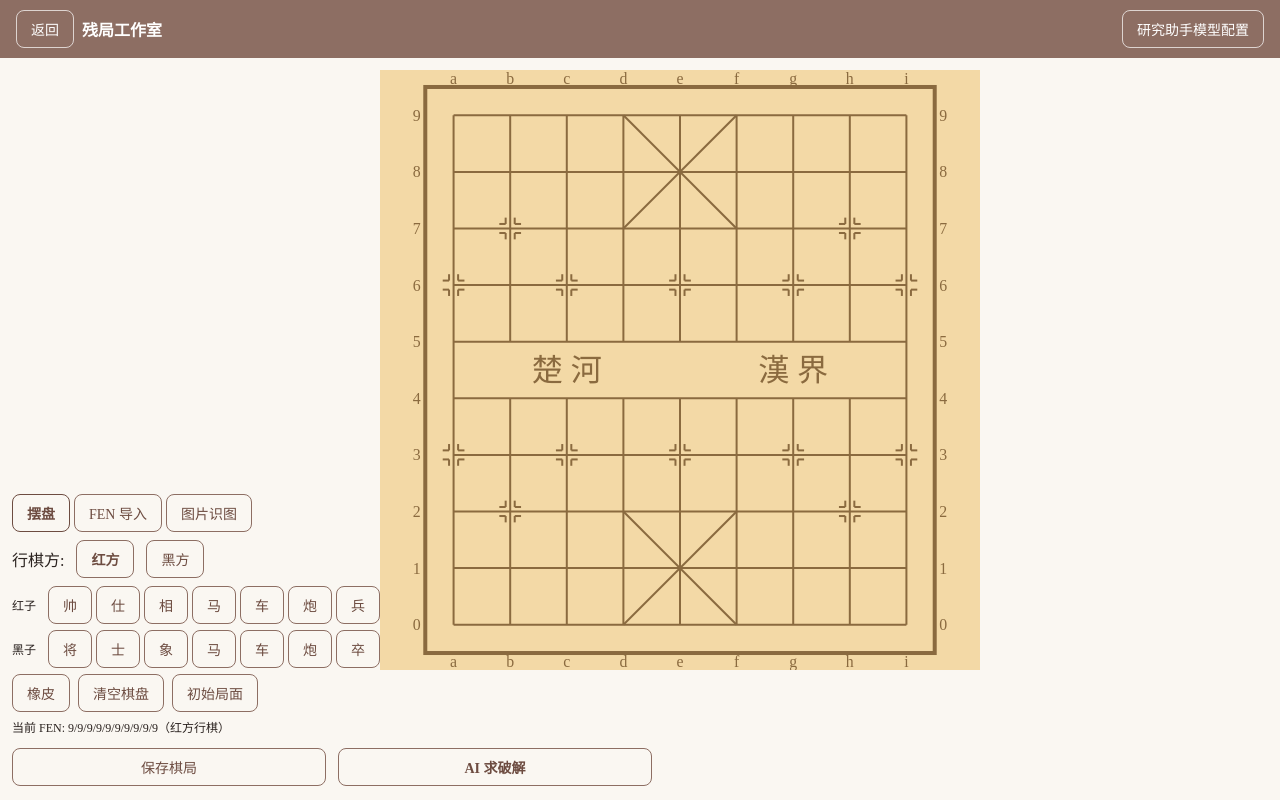
Test: 大模型辅助注释（TC-SOL-008，05 §6 Hybrid） › ⑫ 验证通过 → BottomSheet 显示注释 + 入库 llmNote 同步
Click the button "FEN 导入" at (118, 513), box [74,494,162,532]
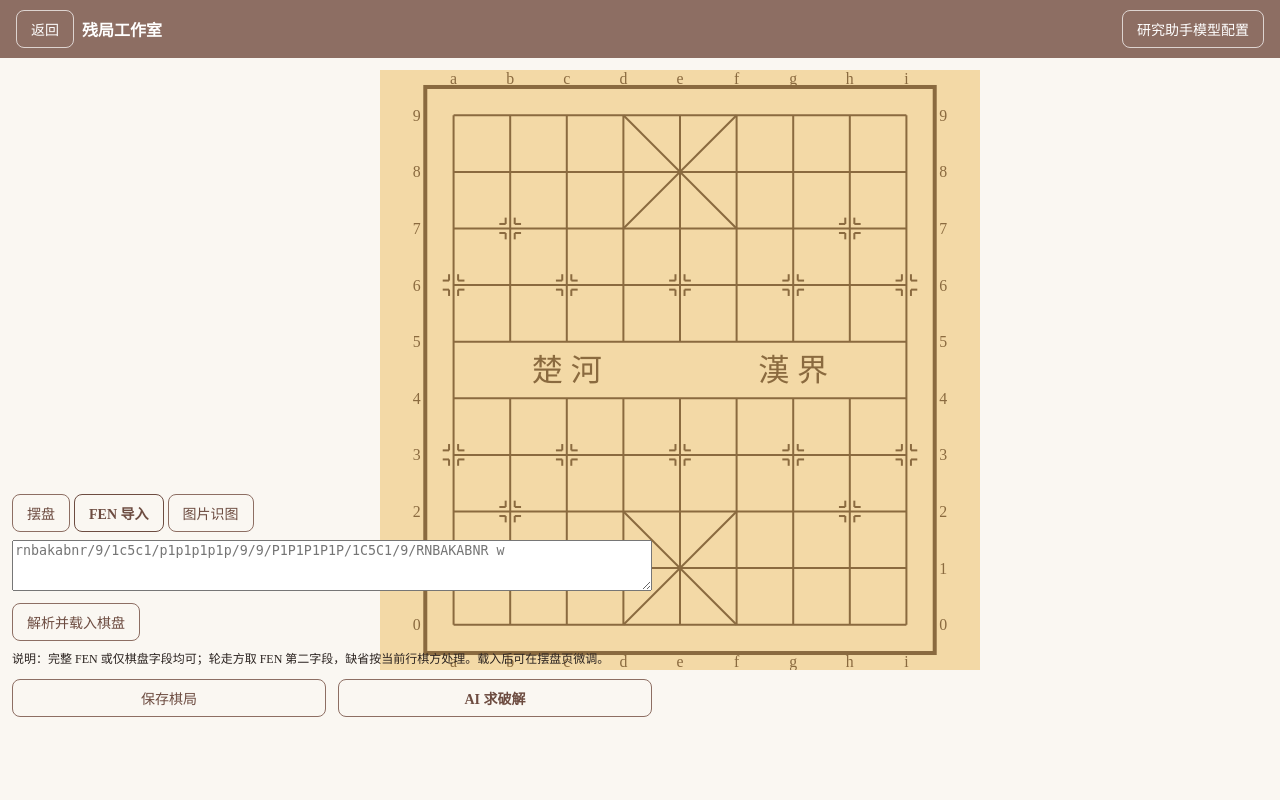
Replace the text in the text box with placeholder "rnbakabnr" with "3k5/9/9/9/R8/8R/9/9/9/4K4 w - - 0 1" at (332, 566), box [12,540,652,591]
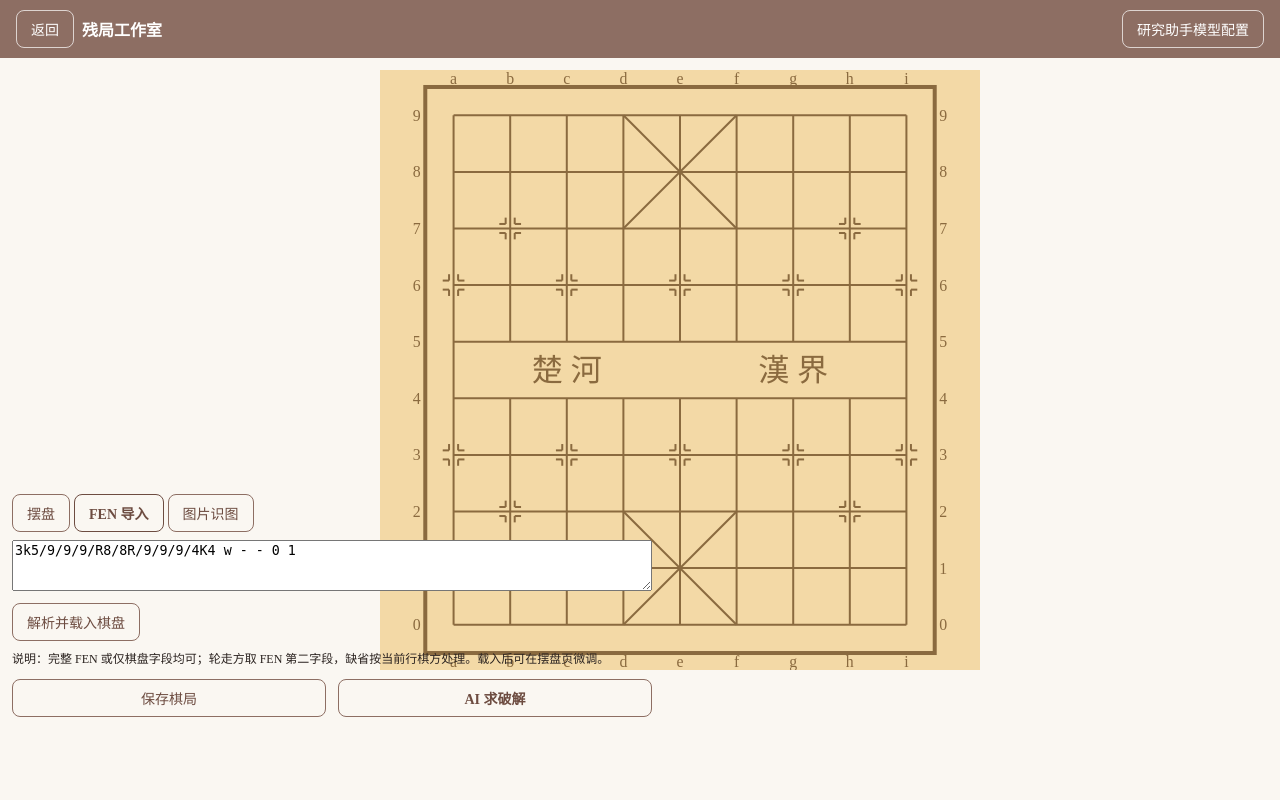
Click the button "解析并载入棋盘" at (76, 622), box [12,603,140,641]
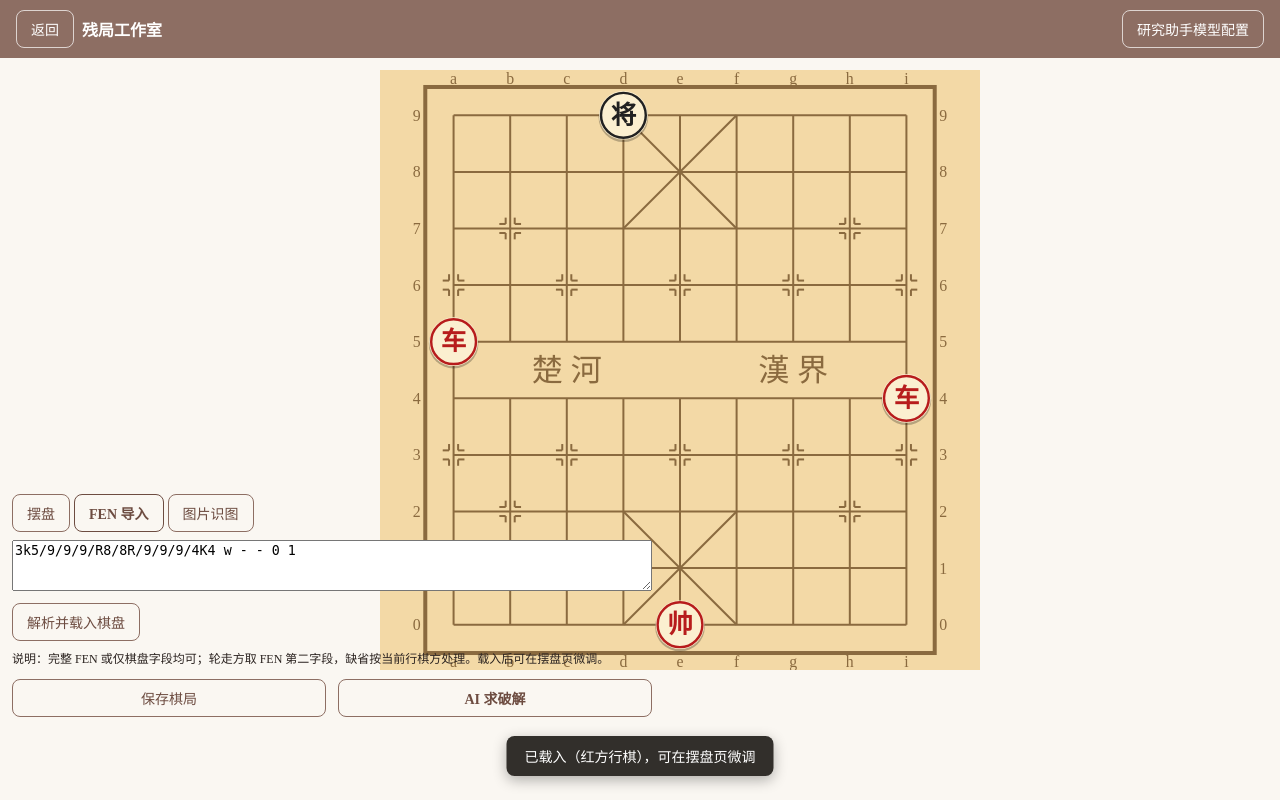
Click the button "AI 求破解" at (495, 698), box [338,679,652,717]
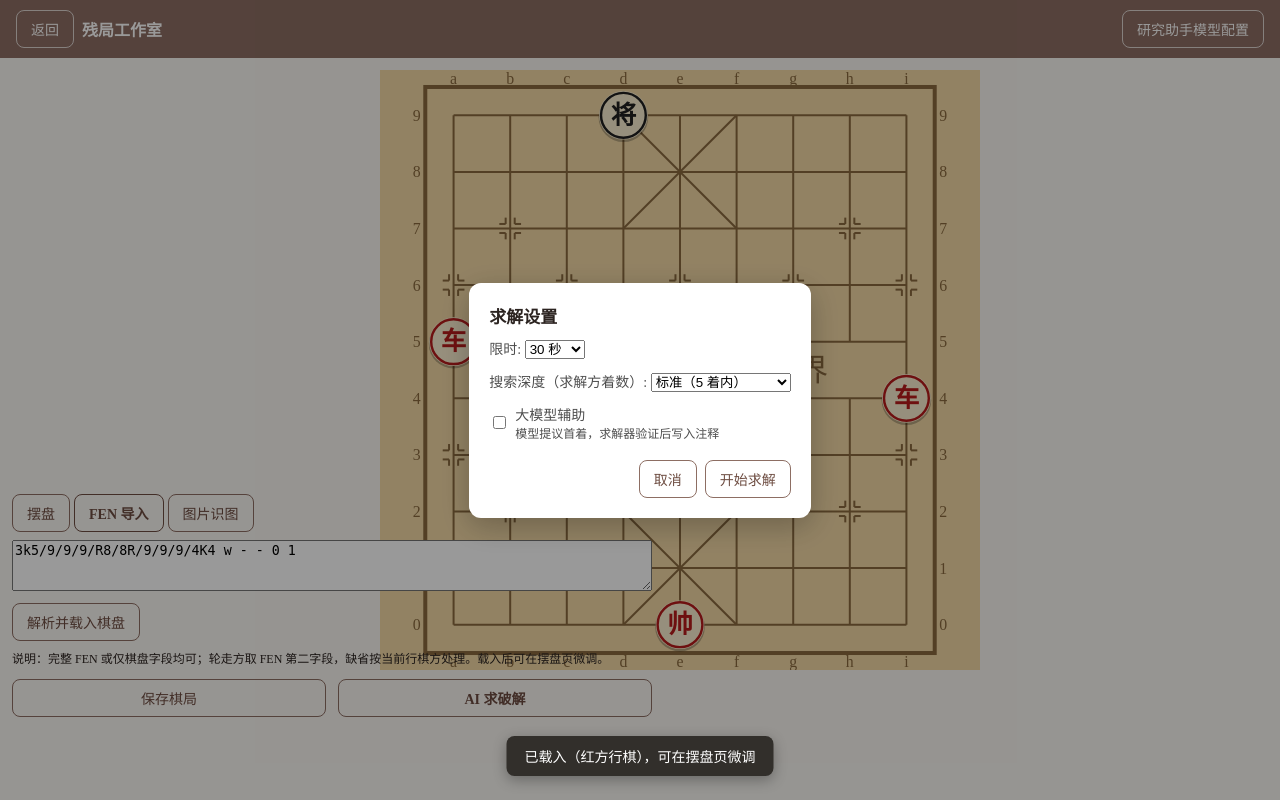
Click the checkbox with test id "solve-llm-switch" at (500, 422), box [493,416,506,429]
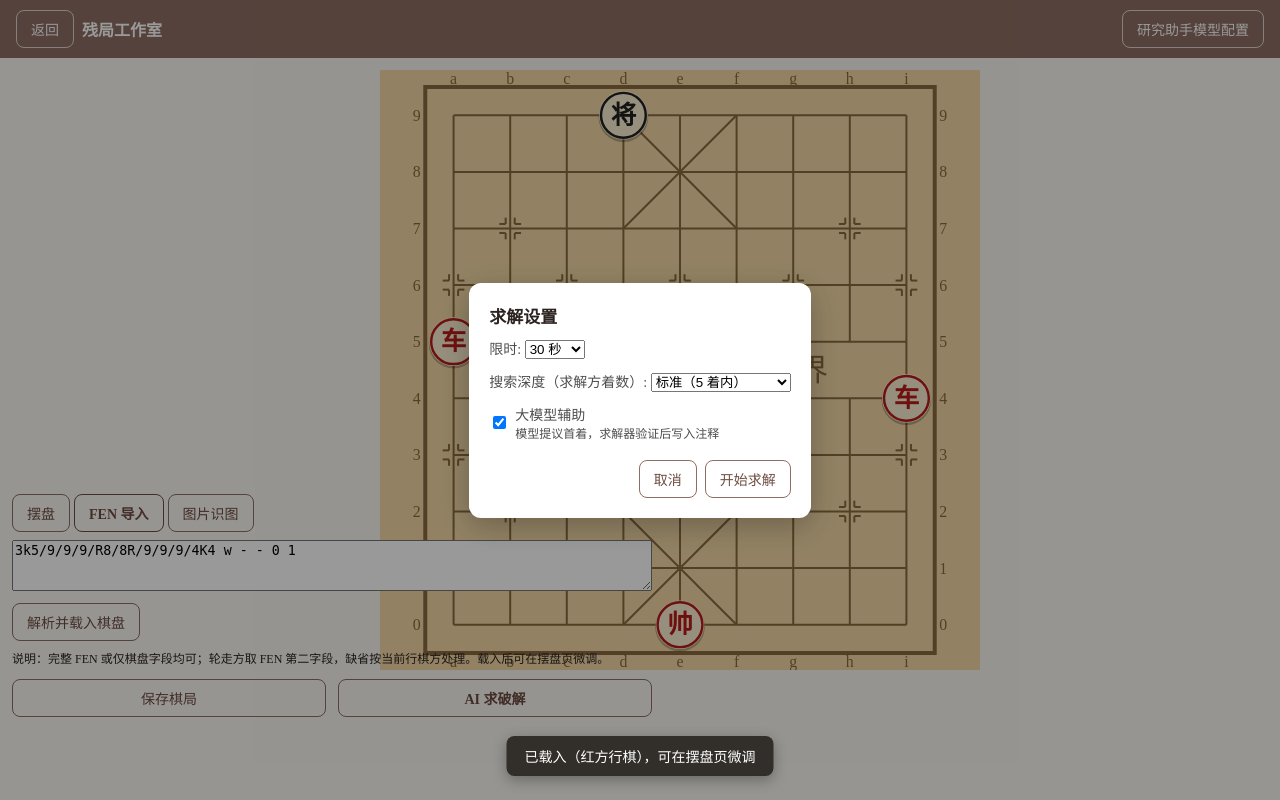
Click the button "开始求解" at (748, 478), box [705,460,791,498]
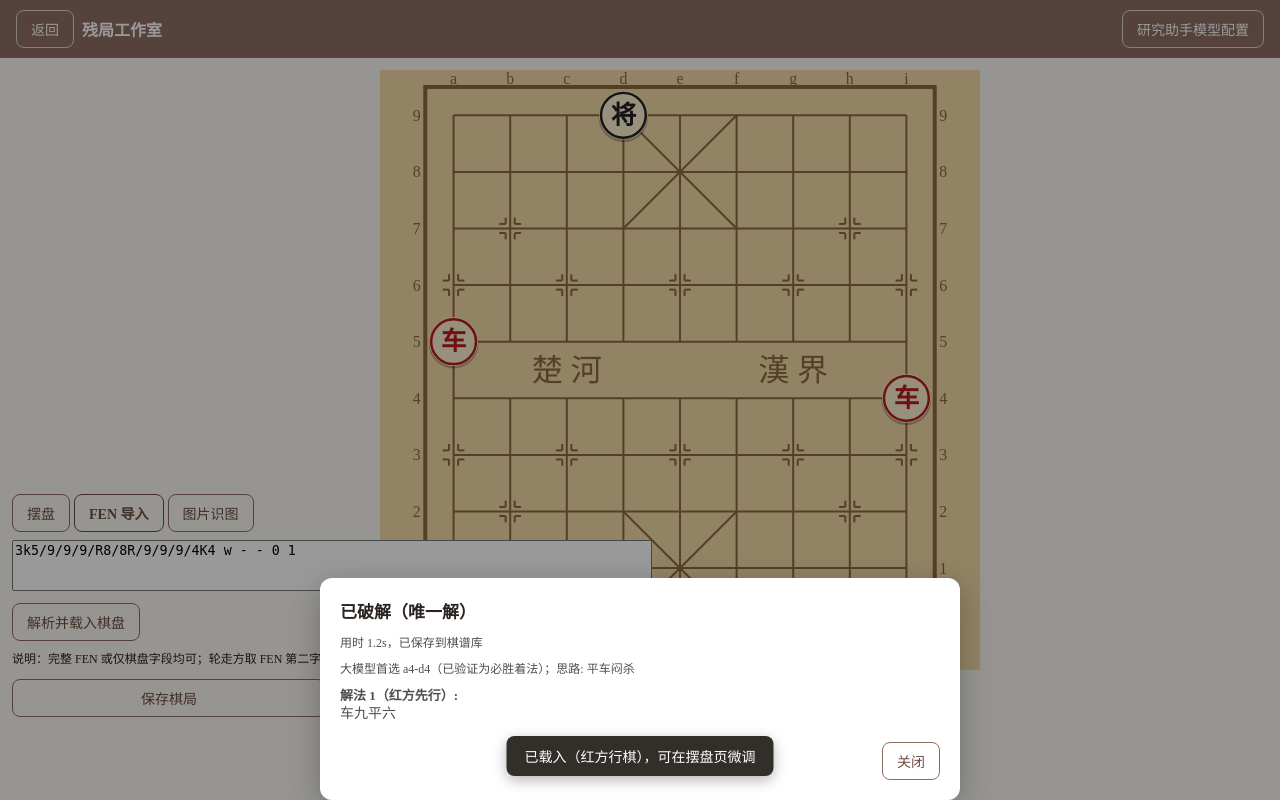
Expected: the element with test id "solve-result-sheet" is shown
Expected: the text with test id "solve-llm-note" shows "已验证为必胜着法", [340,662,635,676]
